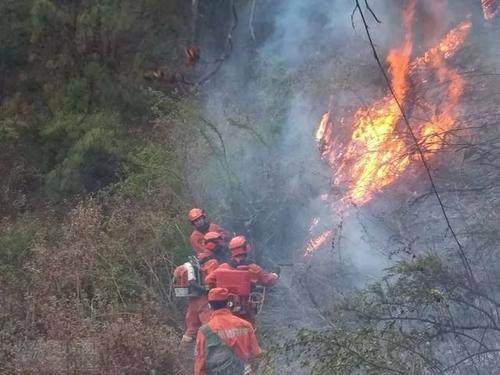fire: (314, 95, 457, 201), (436, 28, 463, 52), (310, 232, 330, 247)
